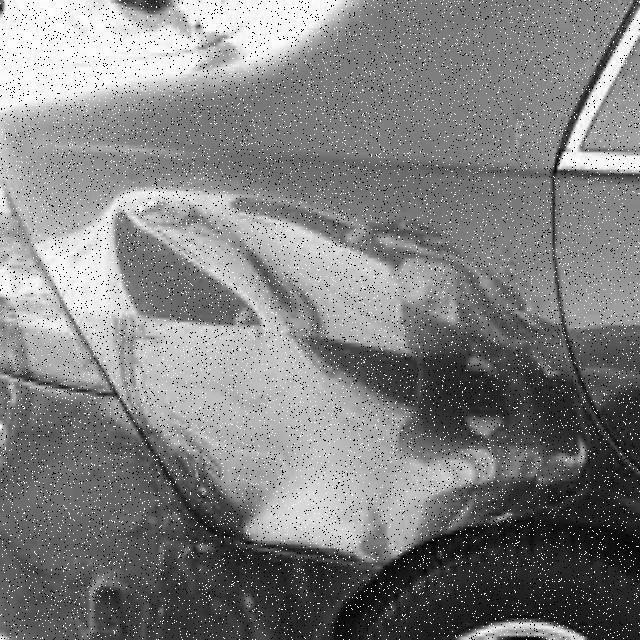quaterpanel-dent: (101, 58, 593, 631)
